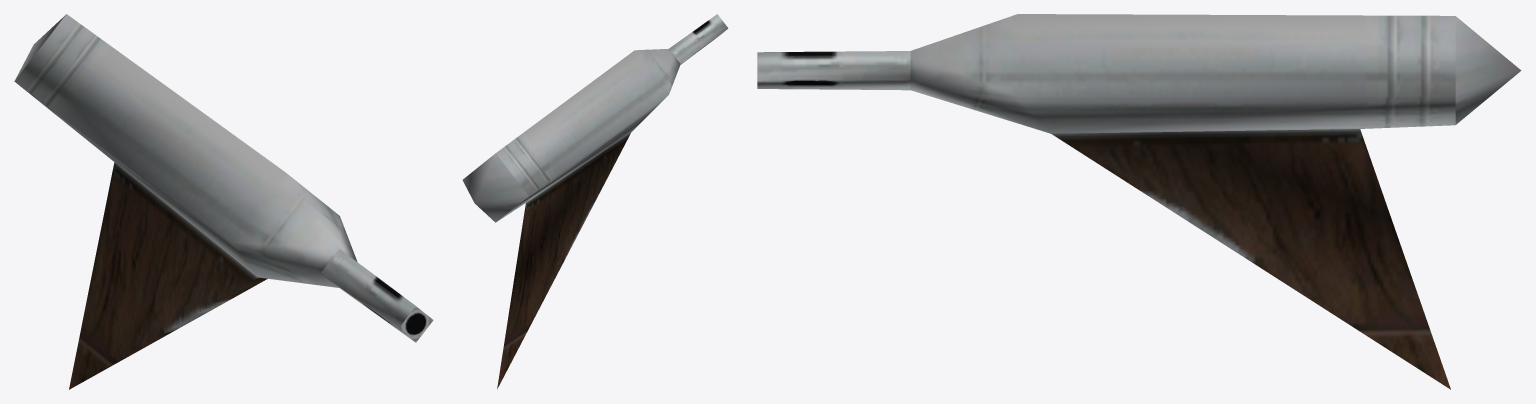
Rendered from wp_pistol_republic_blaster_l2.fbx.
3 views of the same model, side by side, from view 1: azimuth 30°, elevation 25°; view 2: azimuth 150°, elevation 25°; view 3: azimuth 270°, elevation 25° (orthographic). The views are drawn at different scales.
Visible parts, largest first — view 1: mesh_node; view 2: mesh_node; view 3: mesh_node.
Boxes of the visible parts, x1,y1,x2,y2 form: mesh_node: (14, 14, 433, 389); mesh_node: (462, 14, 728, 389); mesh_node: (757, 14, 1521, 389).
Bounding box in the file's own units: 0.0416 × 0.1382 × 0.2546.
Materials: 1 (1 with a texture image).
